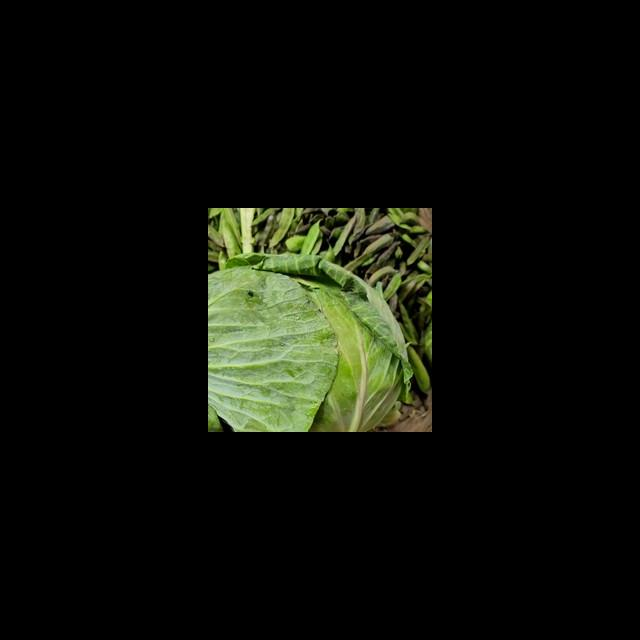cabbage: (208, 255, 413, 432)
